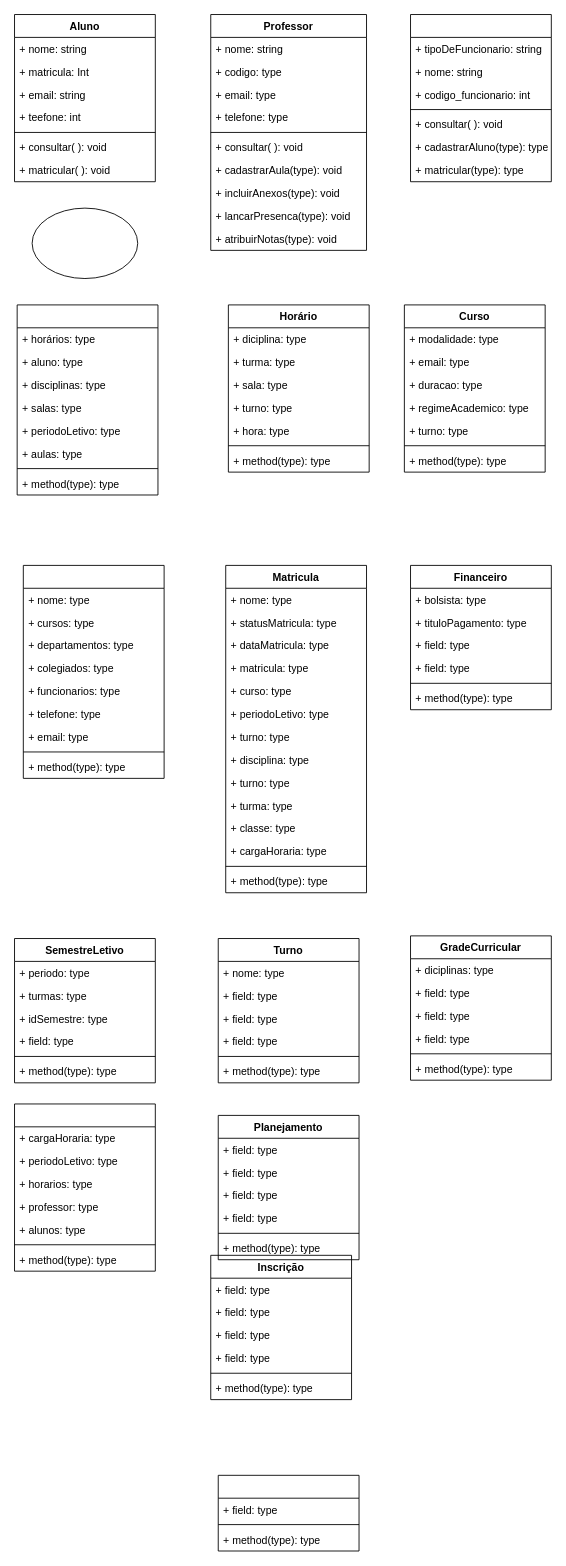
Some shapes in this 566 by 1566 pixel diagram are drawn without their labels. Each missing label, with the box of its shape:
Classname: (217, 1474, 359, 1551)
Disciplina: (14, 1103, 155, 1271)
Funcionário: (410, 14, 551, 182)
Instituição: (22, 565, 164, 778)
Turma: (16, 304, 158, 495)
